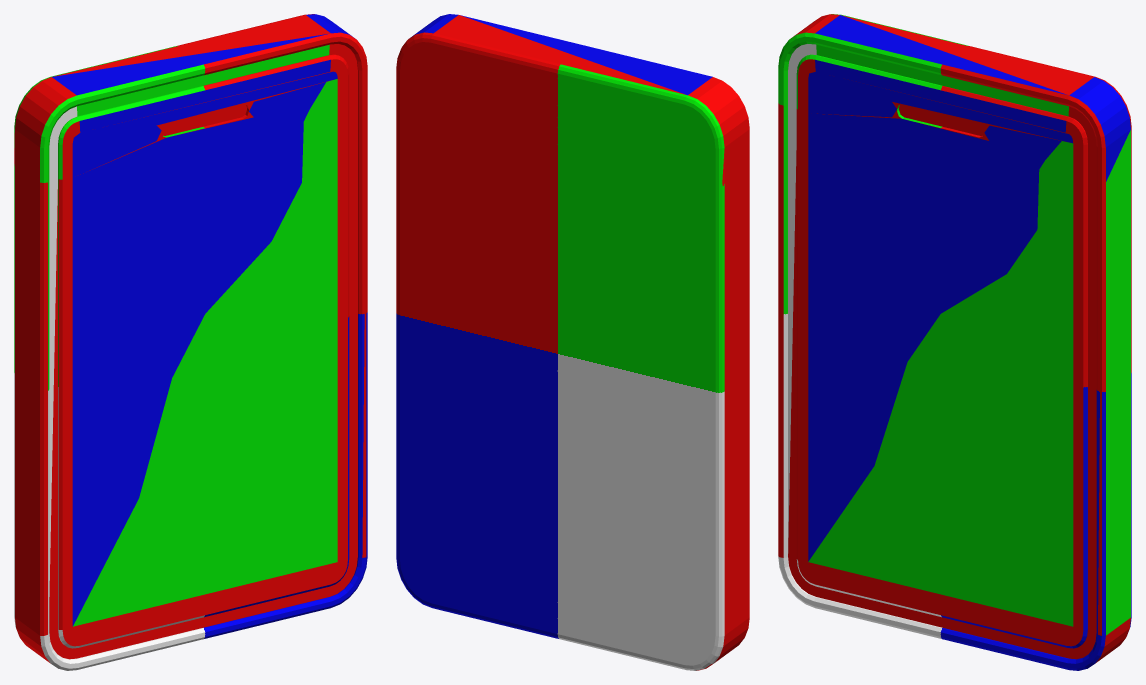
The model's file is base-app-2.glb.
The picture shows the model from 3 angles, left to right: view 1: azimuth 30°, elevation 25°; view 2: azimuth 150°, elevation 25°; view 3: azimuth 330°, elevation 25°; orthographic projection.
Visible parts, largest first — view 1: Base_App; view 2: Base_App; view 3: Base_App.
Boxes of the visible parts, left/top/right/bottom form: Base_App: left=14, top=14, right=367, bottom=670; Base_App: left=396, top=14, right=749, bottom=670; Base_App: left=778, top=14, right=1131, bottom=670.
Bounding box in the file's own units: 1.19 × 2 × 0.1865.
Materials: 1 (1 with a texture image).
